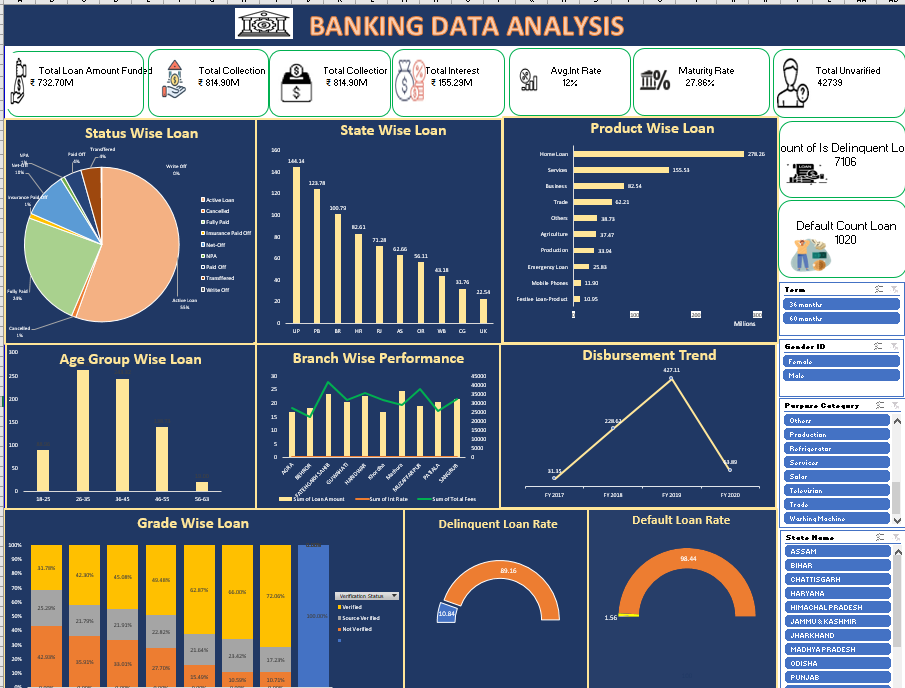

The dashboard page shown, as its layout file describes it:
{"tool":"tableau","page":{"name":"Dashboard 1","canvas":[1000,1000],"units":"permille","ordinal":0},"visuals":[{"type":"text","box":[4.8,9.4,315,115.1]},{"type":"worksheet","title":"KPI's","mark":"Automatic","box":[319.9,9.4,675.3,115.1]},{"type":"dashboard-object","box":[365.7,9.4,14.5,28.2]},{"type":"image","param":"Image/bank llohgo1.png","box":[6.5,11.8,83.9,109.3]},{"type":"image","param":"Image/defaultimage.png","box":[812.3,47,83.9,64.6]},{"type":"image","param":"Image/deliqimages.jpg","box":[325.9,48.2,103.8,64.6]},{"type":"image","param":"Image/Picture1.jpg","box":[430.3,48.2,83.3,64.6]},{"type":"image","param":"Image/images% int.jpg","box":[718.2,48.2,92.3,63.5]},{"type":"image","param":"Image/deliqimages2.png","box":[897.4,48.2,91.7,62.3]},{"type":"image","param":"Image/%bank.jpg","box":[516,49.4,103.8,62.3]},{"type":"image","param":"Image/images2.jpg","box":[620.4,50.5,95.4,61.1]},{"type":"filter","title":"State wise Loan","param":"[federated.09ncz721xuv75j17ba6510lsigww].[none:State Name:nk]","box":[4.8,124.5,123.7,94]},{"type":"worksheet","title":"Branch wise Performance","mark":"Automatic","rows":["Loan Amount","Total Fees"],"cols":["Branch Name"],"box":[128.5,124.5,317.2,472.1]},{"type":"worksheet","title":"Purpose Category wise loan","mark":"Automatic","box":[445.8,124.5,273.2,472.1]},{"type":"worksheet","title":"Gradewise loan","mark":"Automatic","rows":["grade"],"cols":["Loan Amount"],"box":[719,124.5,276.2,472.1]},{"type":"filter","title":"Loan Disbursement Trend","param":"[federated.09ncz721xuv75j17ba6510lsigww].[none:Disbursement Date (Years):nk]","box":[4.8,218.6,123.7,96.4]},{"type":"filter","title":"Gradewise loan","param":"[federated.09ncz721xuv75j17ba6510lsigww].[none:Term:nk]","box":[4.8,314.9,123.7,112.8]},{"type":"filter","title":"Gradewise loan","param":"[federated.09ncz721xuv75j17ba6510lsigww].[none:Purpose Category:nk]","box":[4.8,427.7,123.7,88.1]},{"type":"filter","title":"Branch wise Performance","param":"[federated.09ncz721xuv75j17ba6510lsigww].[none:Branch Name:nk]","box":[4.8,515.9,123.7,80.7]},{"type":"worksheet","title":"State wise Loan","mark":"Automatic","box":[4.8,596.6,318.5,394]},{"type":"worksheet","title":"Loan Status wise loan","mark":"Pie","rows":["Calculation_0745488092364800","Calculation_0745488092364800"],"box":[323.3,596.6,257.6,394]},{"type":"worksheet","title":"Age Group wise Loan","mark":"Pie","box":[581,596.6,207.1,394]},{"type":"worksheet","title":"Loan Disbursement Trend","mark":"Line","rows":["Loan Amount"],"cols":["Disbursement Date"],"box":[788,596.6,207.1,394]}]}

Visuals, with their boxes on the dashboard's canvas, which has no fixed pixel size, in thousandths of its width and height (x1, y1, x2, y2). These are canvas units, not pixel positions in the 905x688 screenshot, which may show the page scaled, cropped or inside an application window:
text: x1=5 y1=9 x2=320 y2=124
"KPI's" worksheet: x1=320 y1=9 x2=995 y2=124
dashboard-object: x1=366 y1=9 x2=380 y2=38
image: x1=6 y1=12 x2=90 y2=121
image: x1=812 y1=47 x2=896 y2=112
image: x1=326 y1=48 x2=430 y2=113
image: x1=430 y1=48 x2=514 y2=113
image: x1=718 y1=48 x2=810 y2=112
image: x1=897 y1=48 x2=989 y2=110
image: x1=516 y1=49 x2=620 y2=112
image: x1=620 y1=50 x2=716 y2=112
"State wise Loan" filter: x1=5 y1=124 x2=128 y2=218
"Branch wise Performance" worksheet: x1=128 y1=124 x2=446 y2=597
"Purpose Category wise loan" worksheet: x1=446 y1=124 x2=719 y2=597
"Gradewise loan" worksheet: x1=719 y1=124 x2=995 y2=597
"Loan Disbursement Trend" filter: x1=5 y1=219 x2=128 y2=315
"Gradewise loan" filter: x1=5 y1=315 x2=128 y2=428
"Gradewise loan" filter: x1=5 y1=428 x2=128 y2=516
"Branch wise Performance" filter: x1=5 y1=516 x2=128 y2=597
"State wise Loan" worksheet: x1=5 y1=597 x2=323 y2=991
"Loan Status wise loan" worksheet (Pie marks): x1=323 y1=597 x2=581 y2=991
"Age Group wise Loan" worksheet (Pie marks): x1=581 y1=597 x2=788 y2=991
"Loan Disbursement Trend" worksheet (Line marks): x1=788 y1=597 x2=995 y2=991
